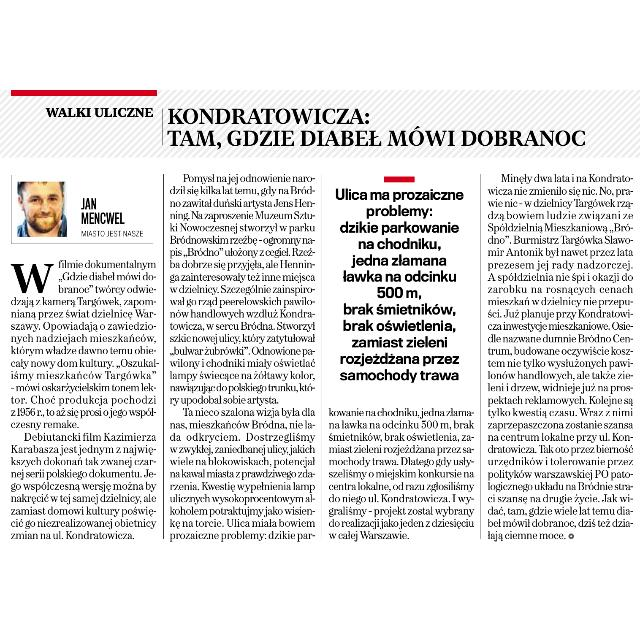author: (72, 195, 130, 227)
body: (166, 170, 320, 546), (486, 169, 636, 545), (7, 254, 161, 544), (331, 170, 472, 386), (324, 404, 478, 544)
title: (38, 102, 596, 152)
